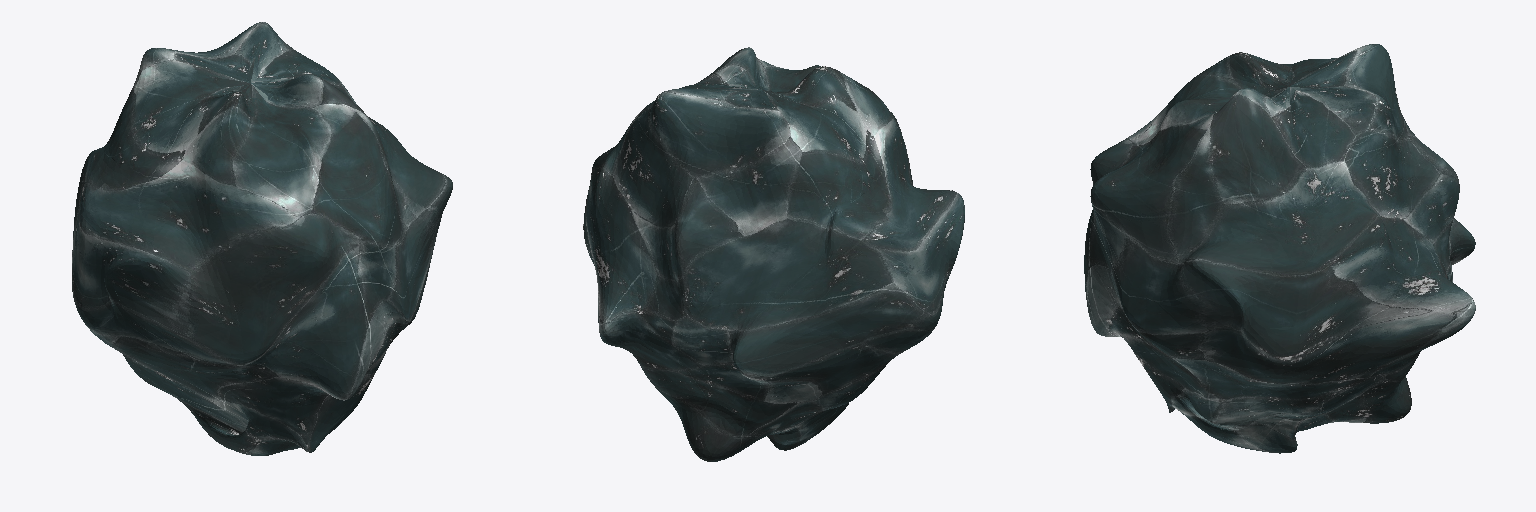
3 renders of one model, left to right at view 1: azimuth 30°, elevation 25°; view 2: azimuth 150°, elevation 25°; view 3: azimuth 270°, elevation 25°, orthographic.
Visible parts, largest first — view 1: Linfocito1_Esfera; view 2: Linfocito1_Esfera; view 3: Linfocito1_Esfera.
Part boxes in pixels (left/top/right/bottom): Linfocito1_Esfera: left=72, top=22, right=452, bottom=455; Linfocito1_Esfera: left=583, top=47, right=964, bottom=461; Linfocito1_Esfera: left=1084, top=44, right=1475, bottom=453.
Size of the model in its own units: 3.75 by 3.89 by 3.71.
Materials: 1 (1 with a texture image).